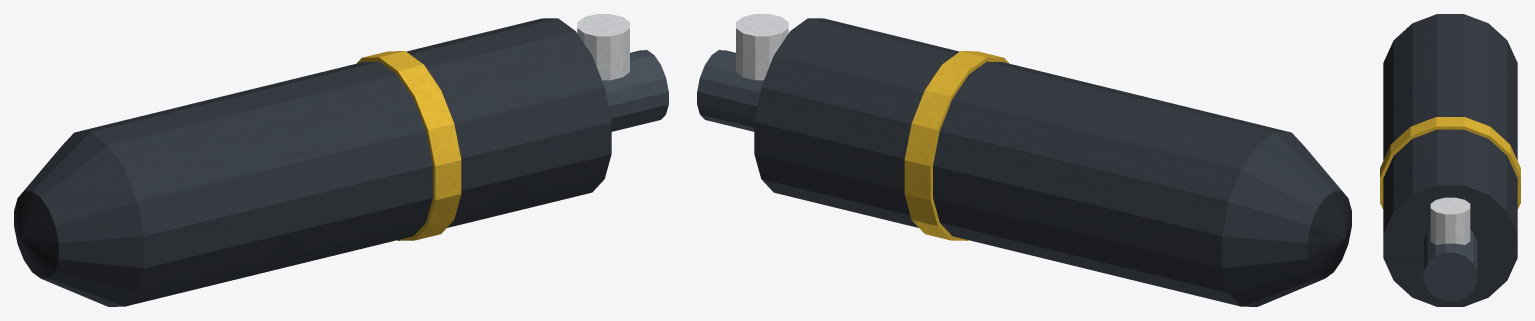
Rendered from tank_hpa_large_v2.glb.
The picture shows the model from 3 angles, left to right: view 1: azimuth 30°, elevation 25°; view 2: azimuth 150°, elevation 25°; view 3: azimuth 270°, elevation 25°; orthographic projection. The views are drawn at different scales.
Parts seen in each view (by area): view 1: tank_hpa_large_mesh; view 2: tank_hpa_large_mesh; view 3: tank_hpa_large_mesh.
Boxes of the visible parts, bbox=[...] form: tank_hpa_large_mesh: bbox=[14, 14, 668, 306]; tank_hpa_large_mesh: bbox=[697, 14, 1351, 306]; tank_hpa_large_mesh: bbox=[1380, 14, 1520, 306].
Bounding box in the file's own units: 0.24 × 0.0618 × 0.0618.
Materials: 5 (5 with a texture image).
